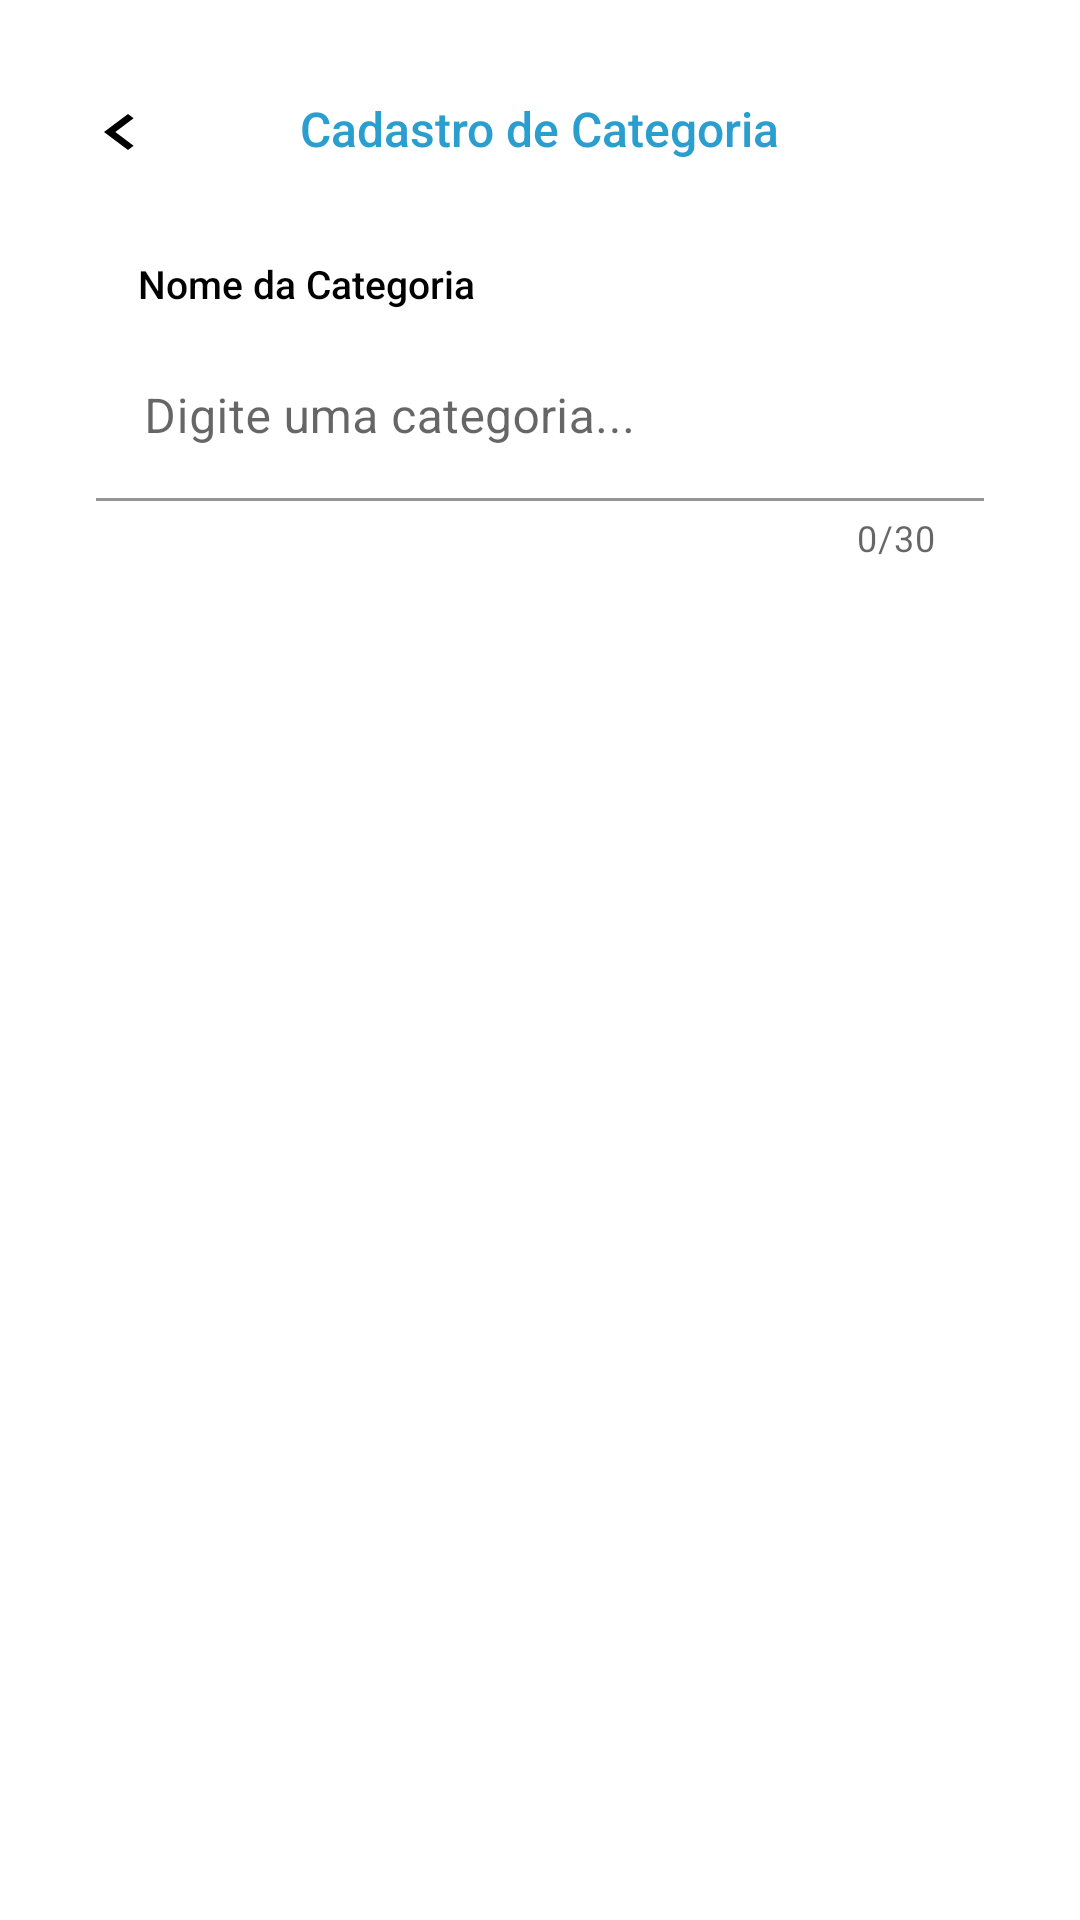

Icon click points for this 1080x1920 phone screenshot, format [x,y]:
Voltar para tela anterior: [119,132]
